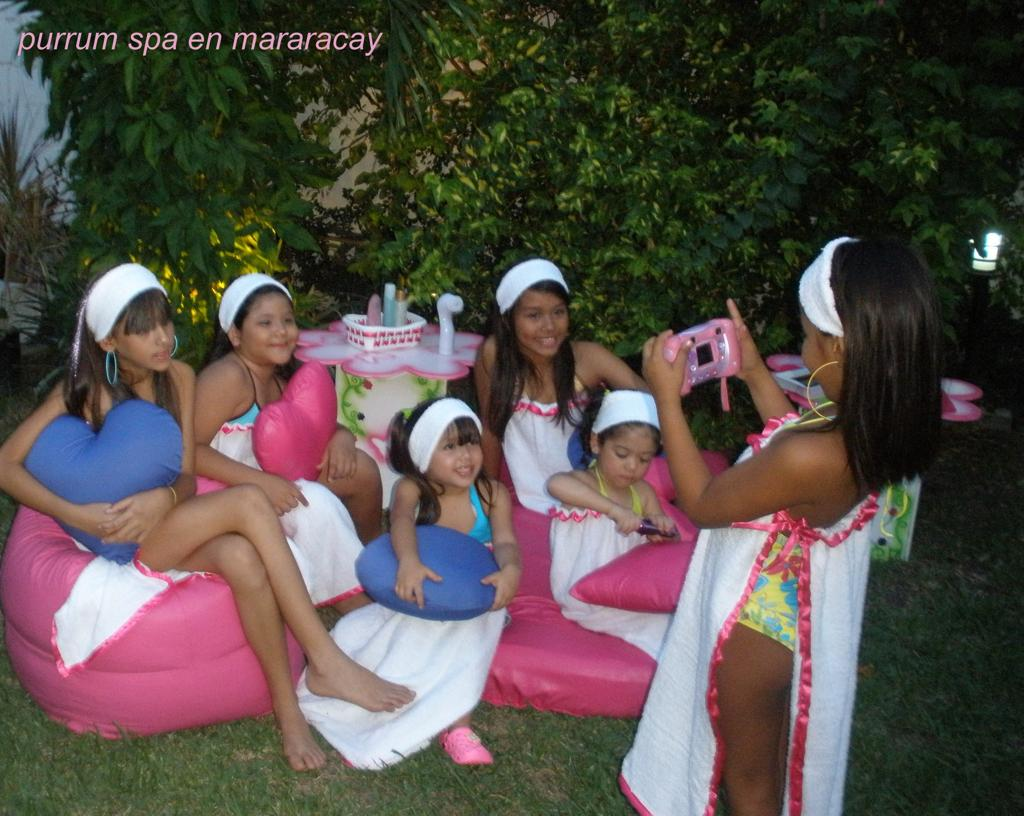face: (800, 314, 852, 401), (244, 293, 300, 364), (116, 307, 175, 371), (432, 417, 484, 487), (514, 290, 567, 357), (602, 425, 655, 489)
